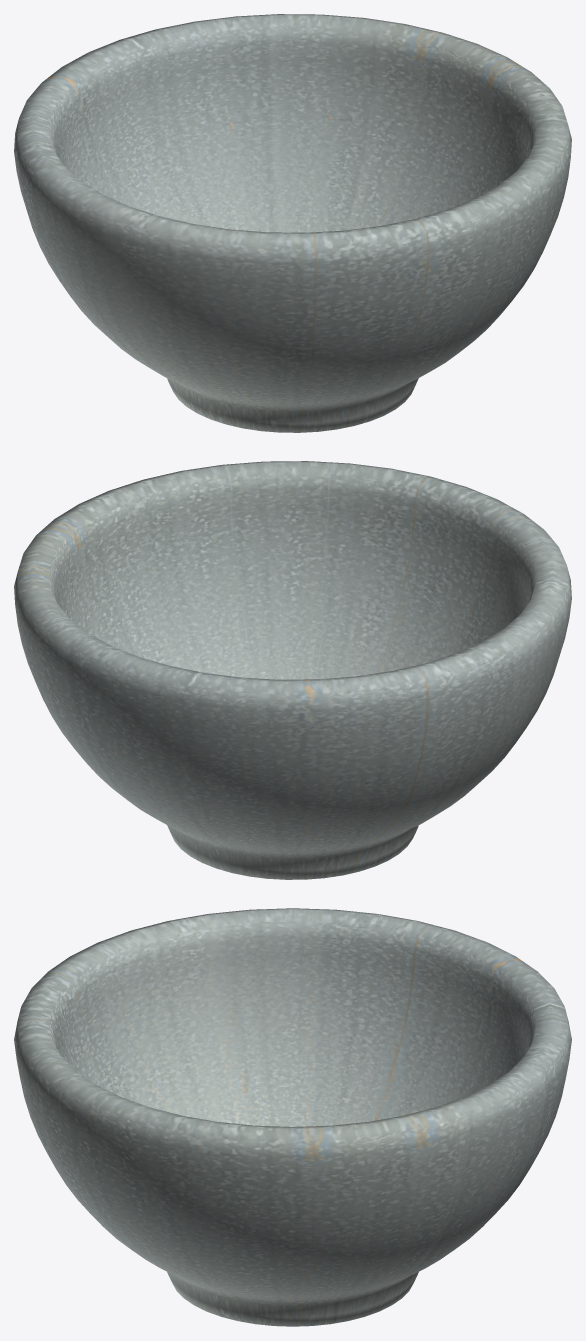
Rendered from morter.fbx.
3 renders of one model, top to bottom at view 1: azimuth 30°, elevation 25°; view 2: azimuth 150°, elevation 25°; view 3: azimuth 270°, elevation 25°, orthographic.
Parts seen in each view (by area): view 1: polySurface2; view 2: polySurface2; view 3: polySurface2.
Part boxes in pixels (x1,y1,x2,y2): polySurface2: (14, 14, 571, 432); polySurface2: (14, 461, 571, 879); polySurface2: (14, 908, 571, 1326).
Bounding box in the file's own units: 3.82 × 1.96 × 3.82.
Materials: 1 (1 with a texture image).
